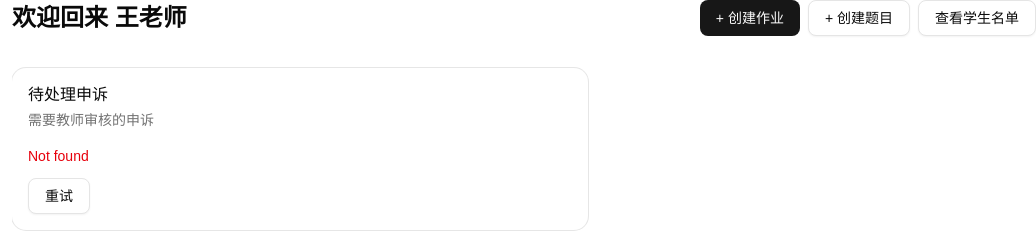
Test: teacher Dashboard › keeps the greeting when the count fails, and offers 重试
This screenshot has width=1036, height=248.
Expected: the heading reads "欢迎回来 王老师", [12, 4, 187, 31]
Expected: the text "Not found" is shown, [28, 146, 89, 166]
Click the button "重试" at (59, 196), box [28, 178, 90, 214]
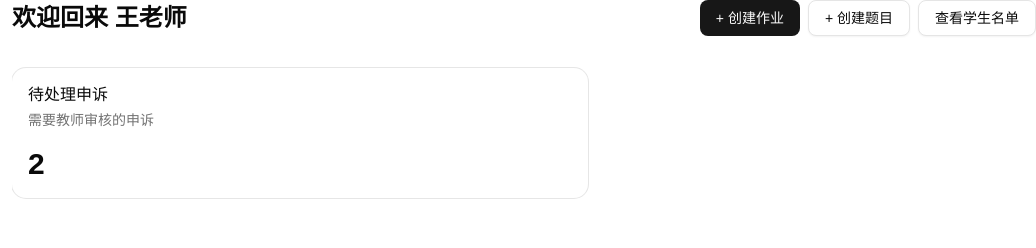
Result: the text "2" is shown at [28, 147, 45, 180]
